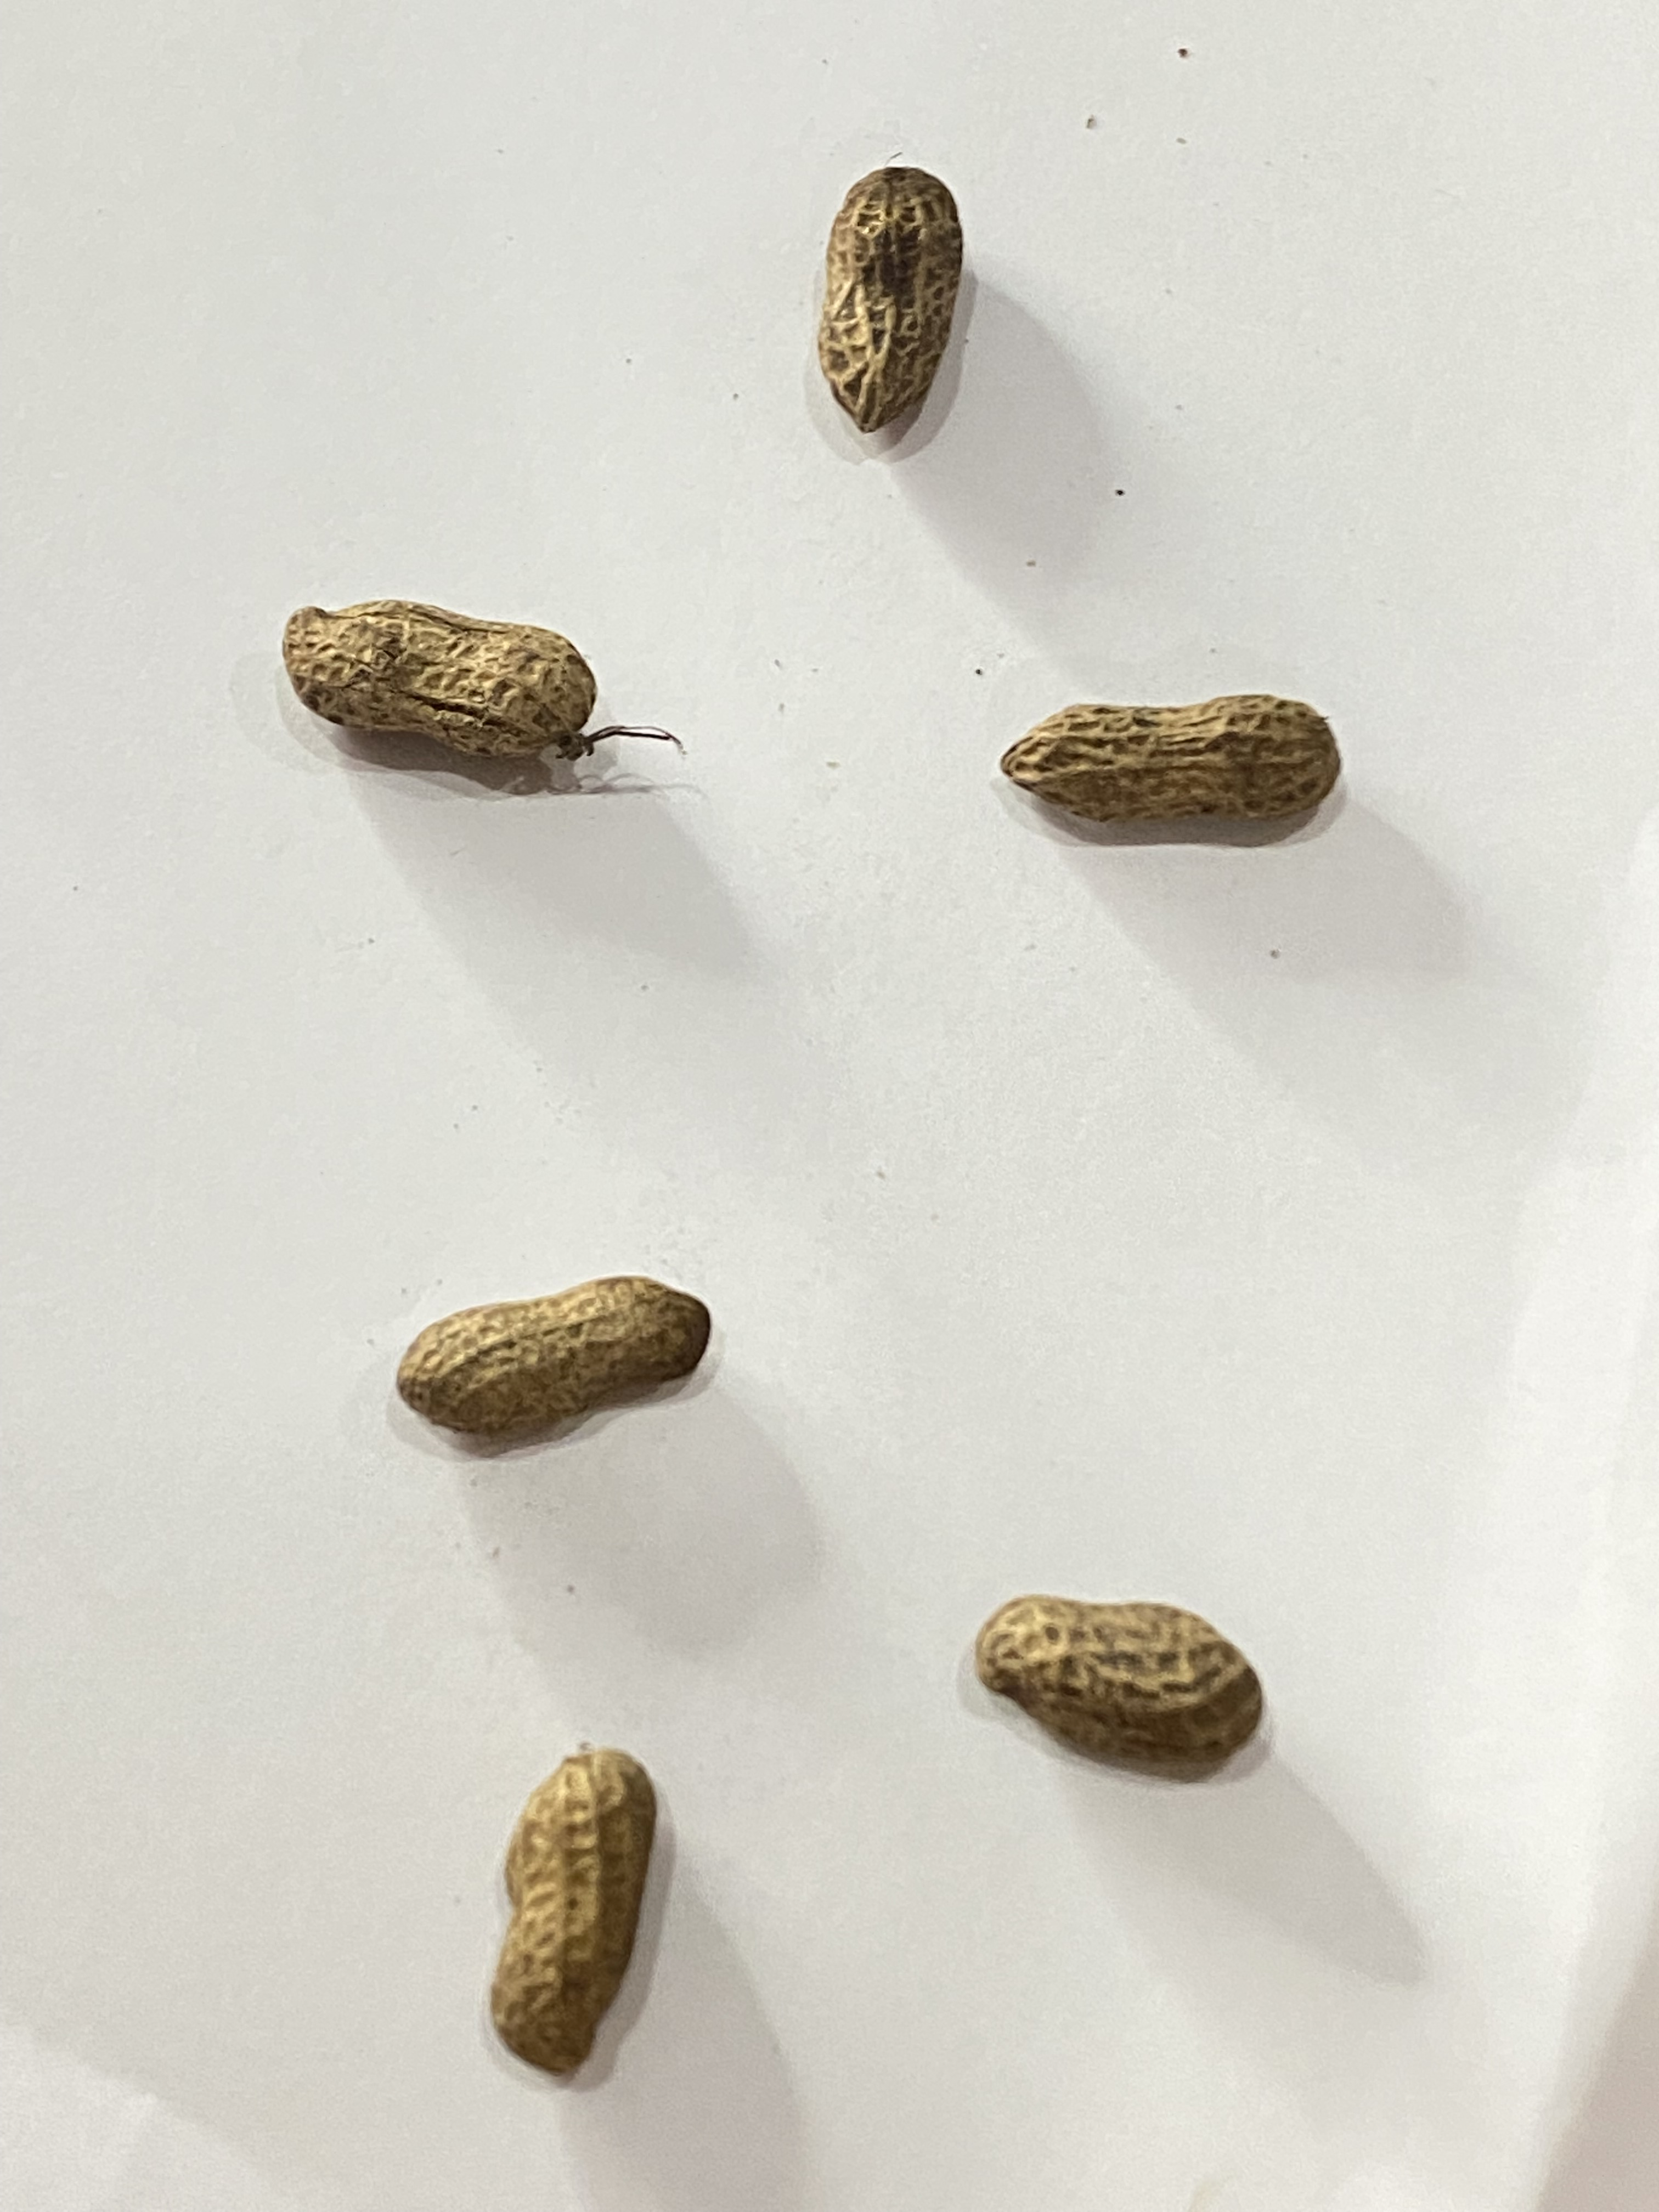kacang1: (934, 1588, 1338, 1817)
kacang2: (413, 1672, 680, 2137), (179, 587, 704, 796), (307, 1268, 789, 1463), (1002, 672, 1338, 916), (793, 157, 988, 456)
